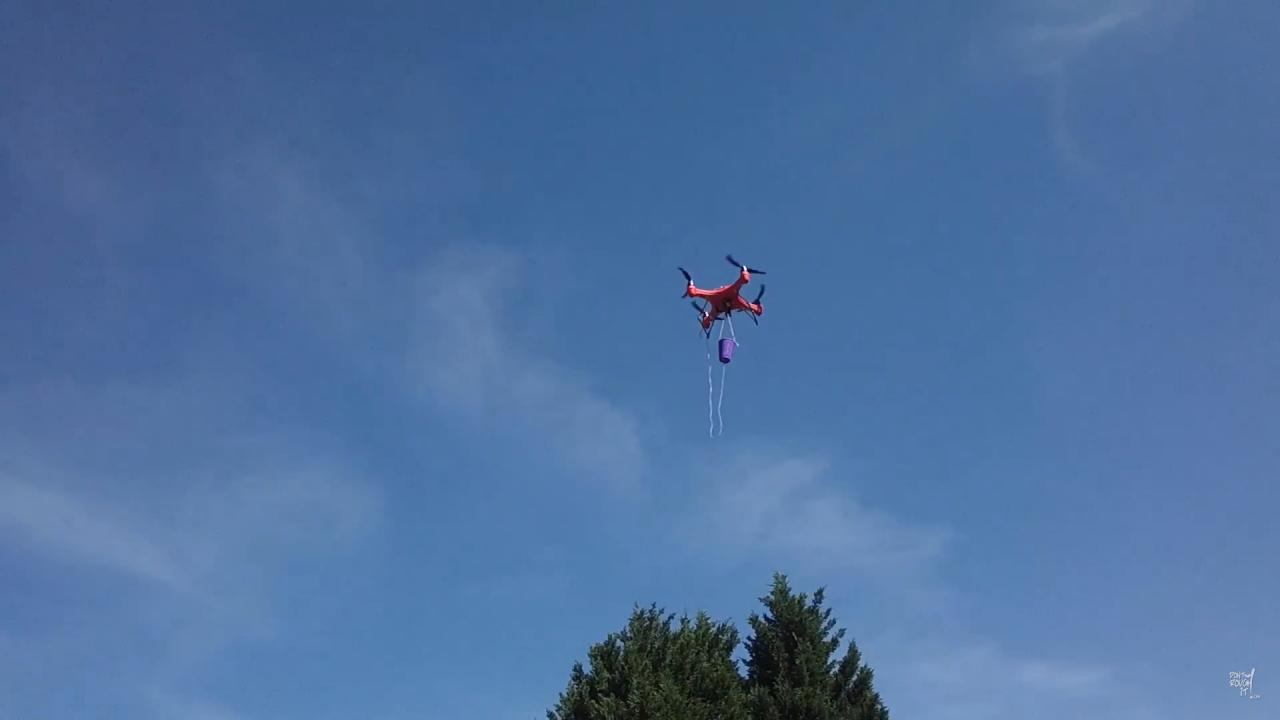Drone: (666, 248, 774, 346)
